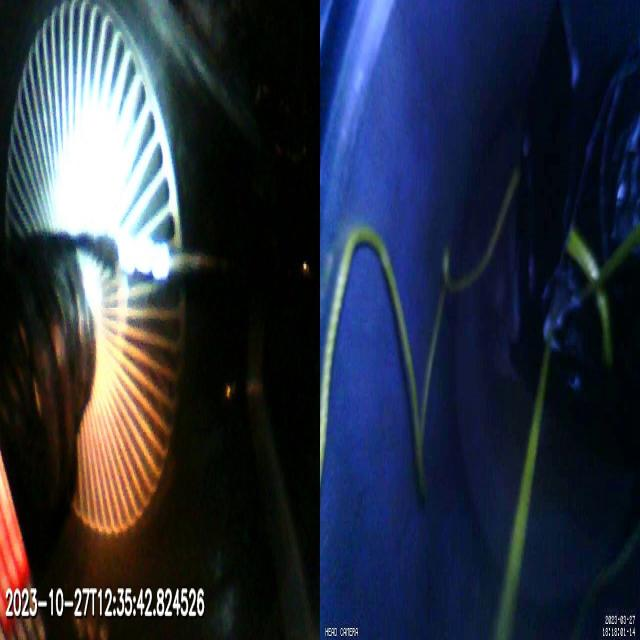white-dots: (116, 235, 170, 286)
